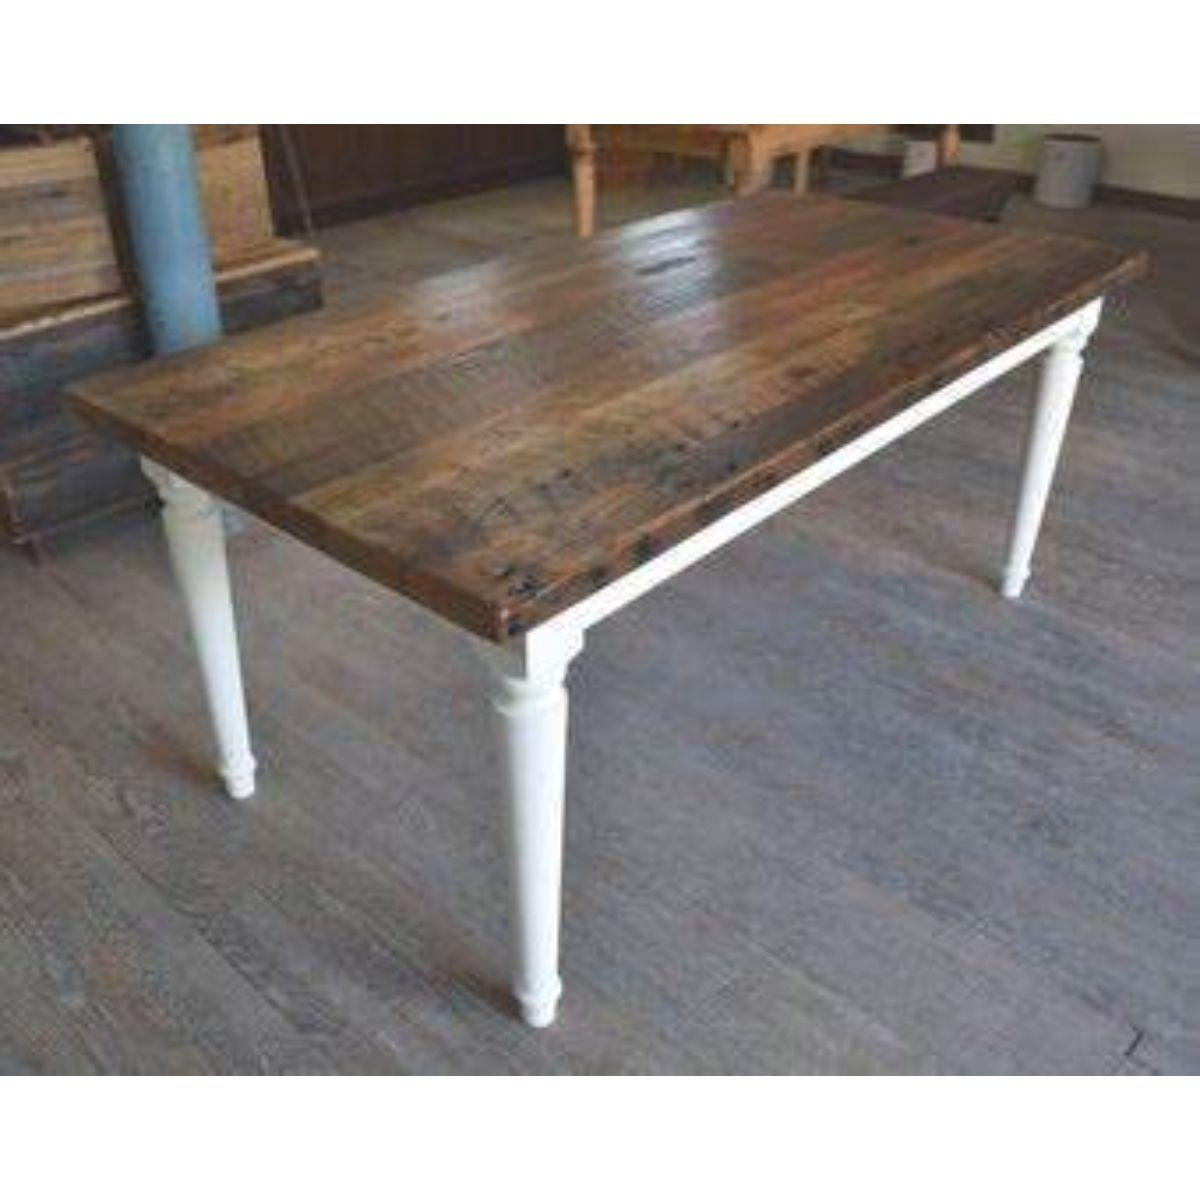Table: (56, 170, 1165, 1050)
